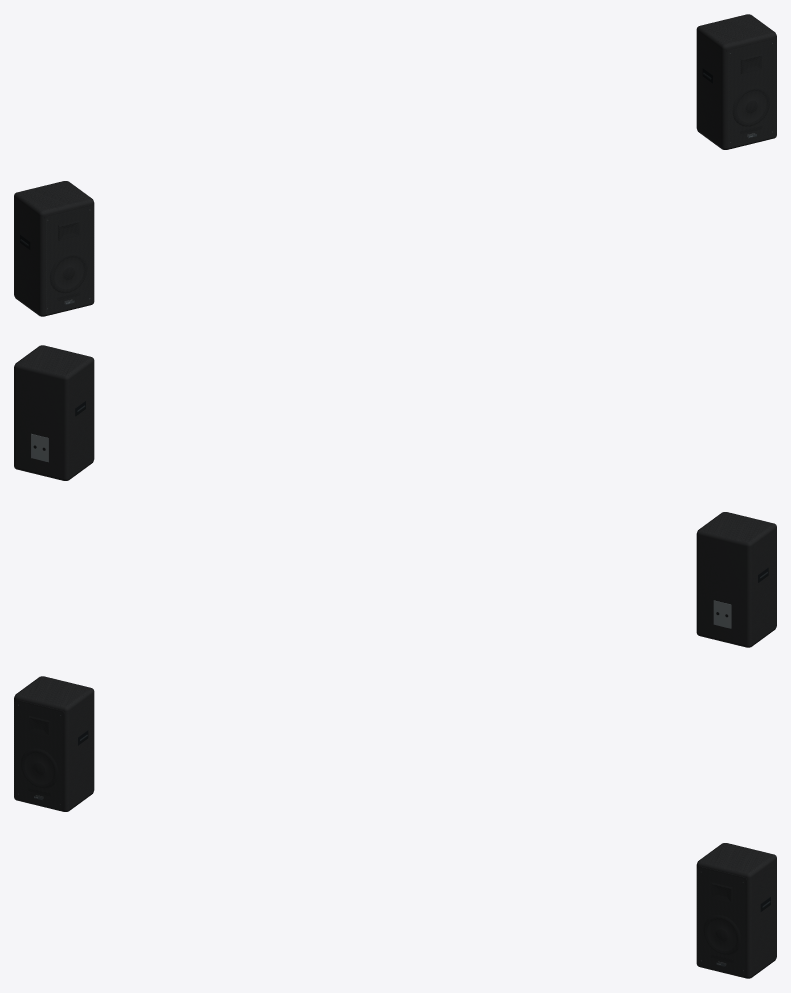
File: caixas_som_pbr_refinadas.glb
3 views of the same model, one above another, from view 1: azimuth 30°, elevation 25°; view 2: azimuth 150°, elevation 25°; view 3: azimuth 330°, elevation 25° (orthographic).
Parts seen in each view (by area): view 1: Gabinete chanfrado.001, Gabinete chanfrado, Grade metalica protetora.001, Grade metalica protetora, Painel frontal.001, Painel frontal, Alto-falante de graves.001, Alto-falante de graves; view 2: Gabinete chanfrado, Gabinete chanfrado.001; view 3: Gabinete chanfrado, Gabinete chanfrado.001, Grade metalica protetora.001, Grade metalica protetora, Painel frontal, Painel frontal.001, Alto-falante de graves, Alto-falante de graves.001.
Boxes of the visible parts, x1,y1,x2,y2 form: Gabinete chanfrado.001: [696, 14, 776, 149]; Gabinete chanfrado: [14, 181, 94, 316]; Grade metalica protetora.001: [728, 39, 776, 147]; Grade metalica protetora: [46, 206, 94, 314]; Painel frontal.001: [726, 38, 775, 147]; Painel frontal: [44, 204, 92, 313]; Alto-falante de graves.001: [732, 86, 769, 126]; Alto-falante de graves: [50, 253, 87, 293]; Gabinete chanfrado: [696, 512, 776, 647]; Gabinete chanfrado.001: [14, 345, 94, 480]; Gabinete chanfrado: [14, 676, 94, 811]; Gabinete chanfrado.001: [696, 843, 776, 978]; Grade metalica protetora.001: [696, 868, 744, 976]; Grade metalica protetora: [14, 701, 62, 809]; Painel frontal: [15, 700, 64, 809]; Painel frontal.001: [698, 866, 746, 975]; Alto-falante de graves: [21, 748, 58, 788]; Alto-falante de graves.001: [703, 915, 740, 955].
Bounding box in the file's own units: 5.1 × 0.7 × 0.3645.
10 materials, 7 textured.
